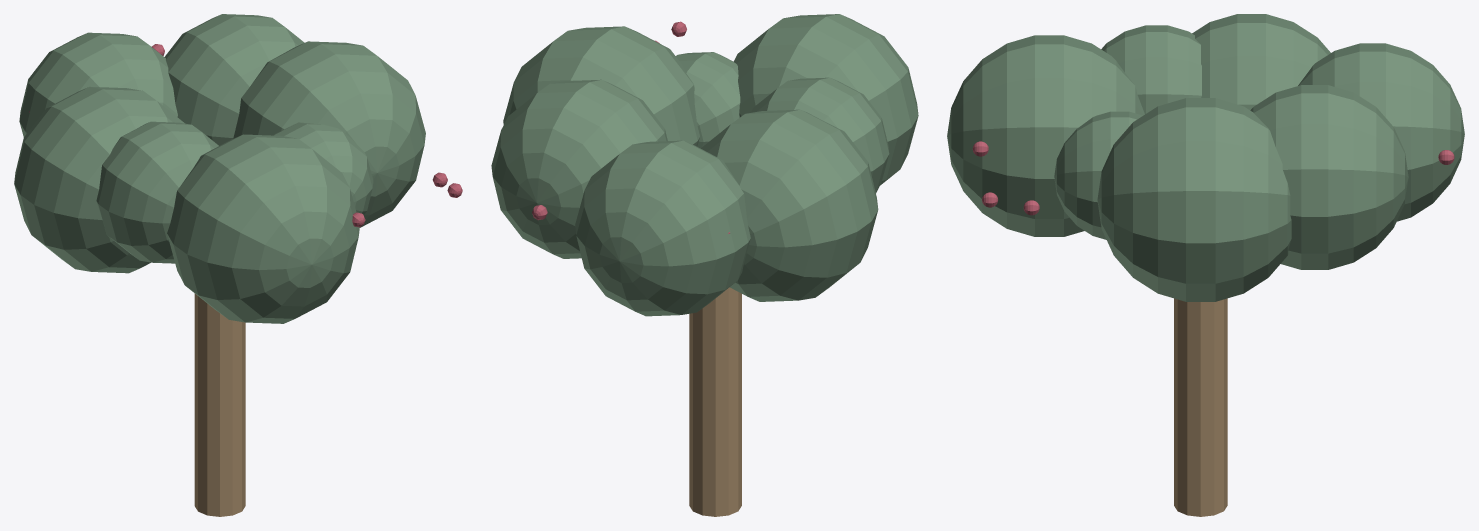
The model's file is mdl_vegetation_tree_flamboyan_001.glb.
3 views of the same model, side by side, from view 1: azimuth 30°, elevation 25°; view 2: azimuth 150°, elevation 25°; view 3: azimuth 270°, elevation 25° (orthographic). The views are drawn at different scales.
Parts seen in each view (by area): view 1: m_manigua, m_madera, m_carmesi; view 2: m_manigua, m_madera; view 3: m_manigua, m_madera, m_carmesi.
Boxes of the visible parts, x1,y1,x2,y2 form: m_manigua: [14, 14, 425, 323]; m_madera: [194, 293, 245, 516]; m_carmesi: [29, 44, 462, 227]; m_manigua: [491, 14, 918, 316]; m_madera: [689, 287, 741, 516]; m_manigua: [947, 14, 1464, 301]; m_madera: [1174, 298, 1227, 516]; m_carmesi: [972, 141, 1454, 215].
Size of the model in its own units: 4.87 by 5.55 by 5.74.
